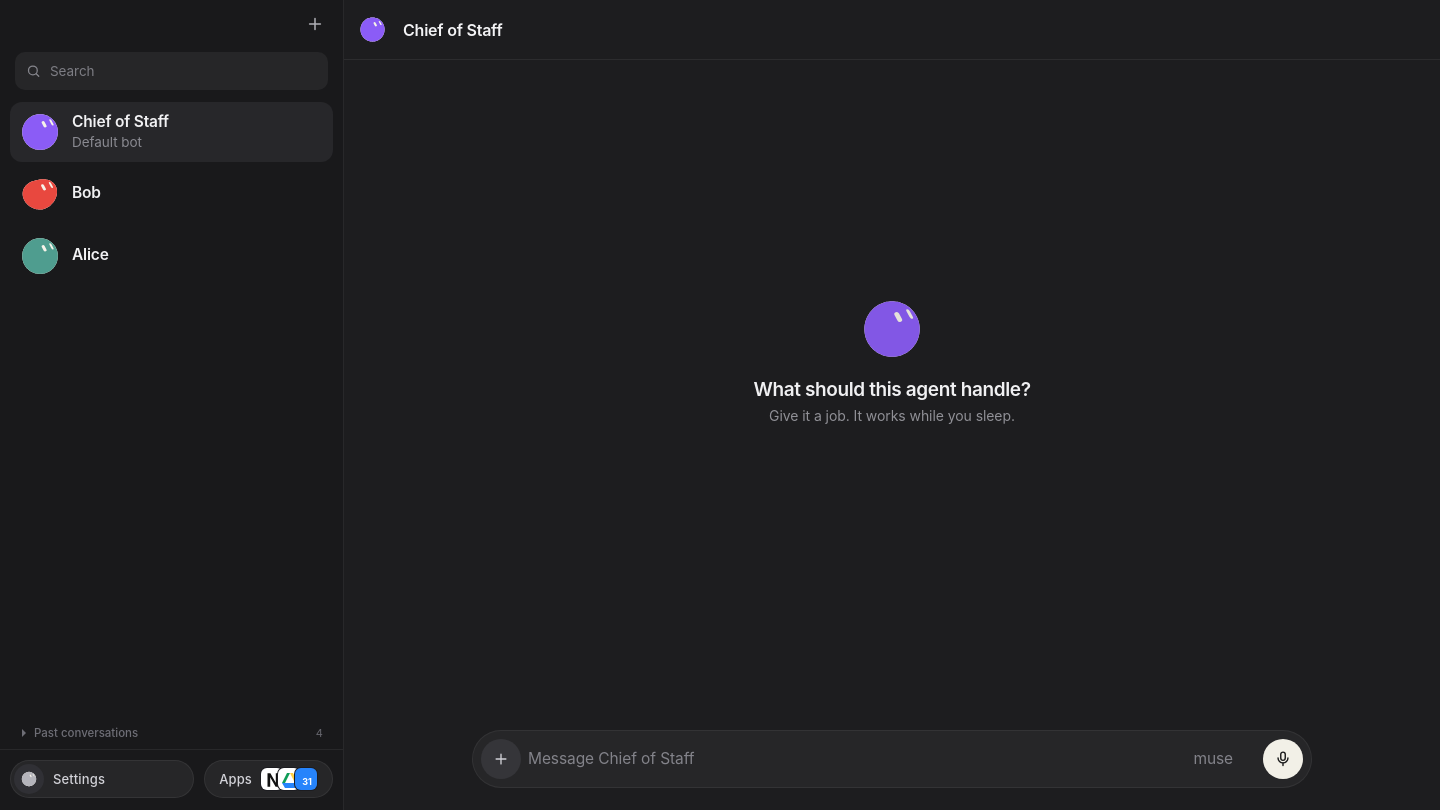
Test: the conversation › opens the tapbacks of a message
The width and height of the screenshot is (1440, 810).
Click the button "Bob" at (40, 194), box [10,164,333,224]
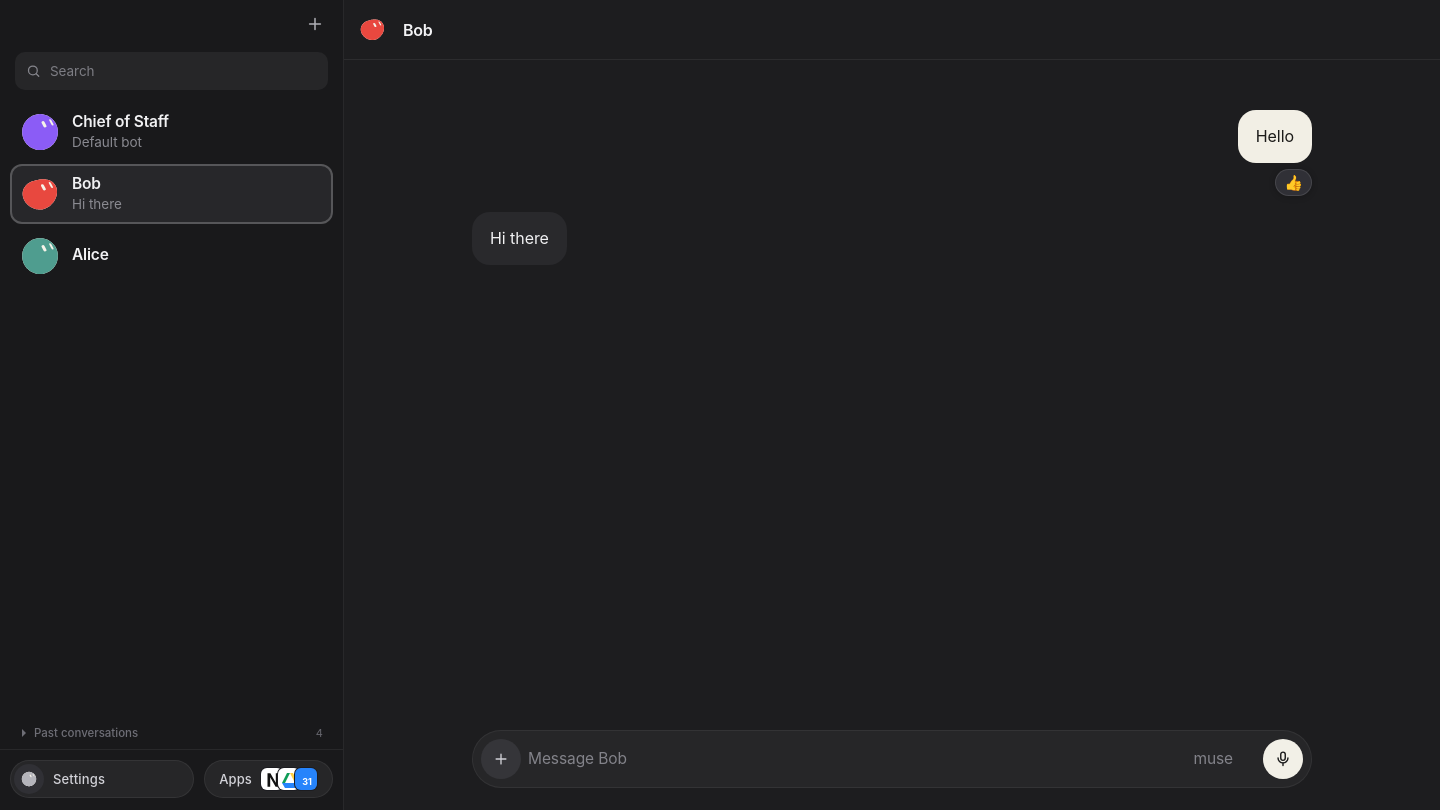
Click the button named "Bob a réagi 👍" at (1294, 182), box [1275,169,1312,196]
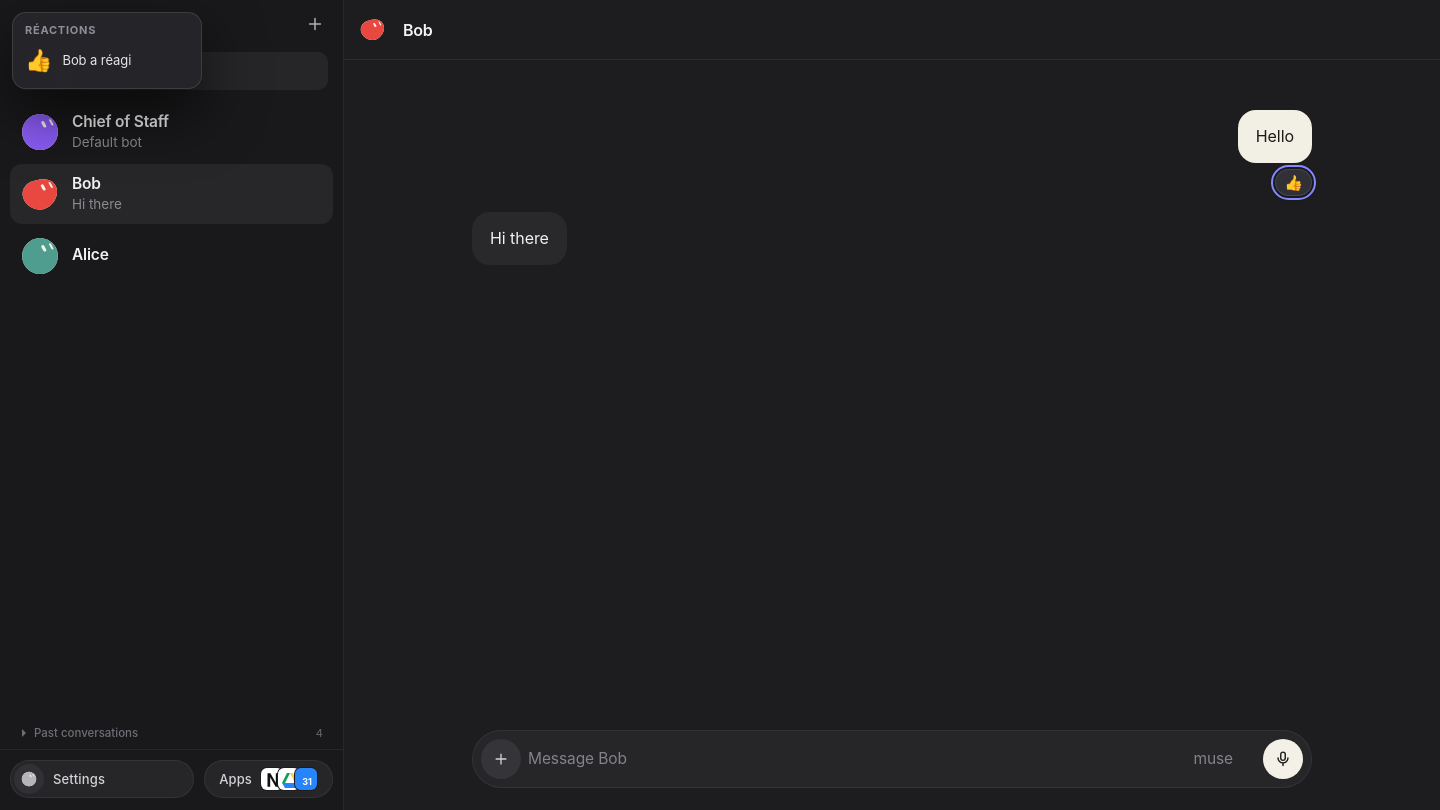
Now the text "Réactions" is shown, box [25,23,96,37]
